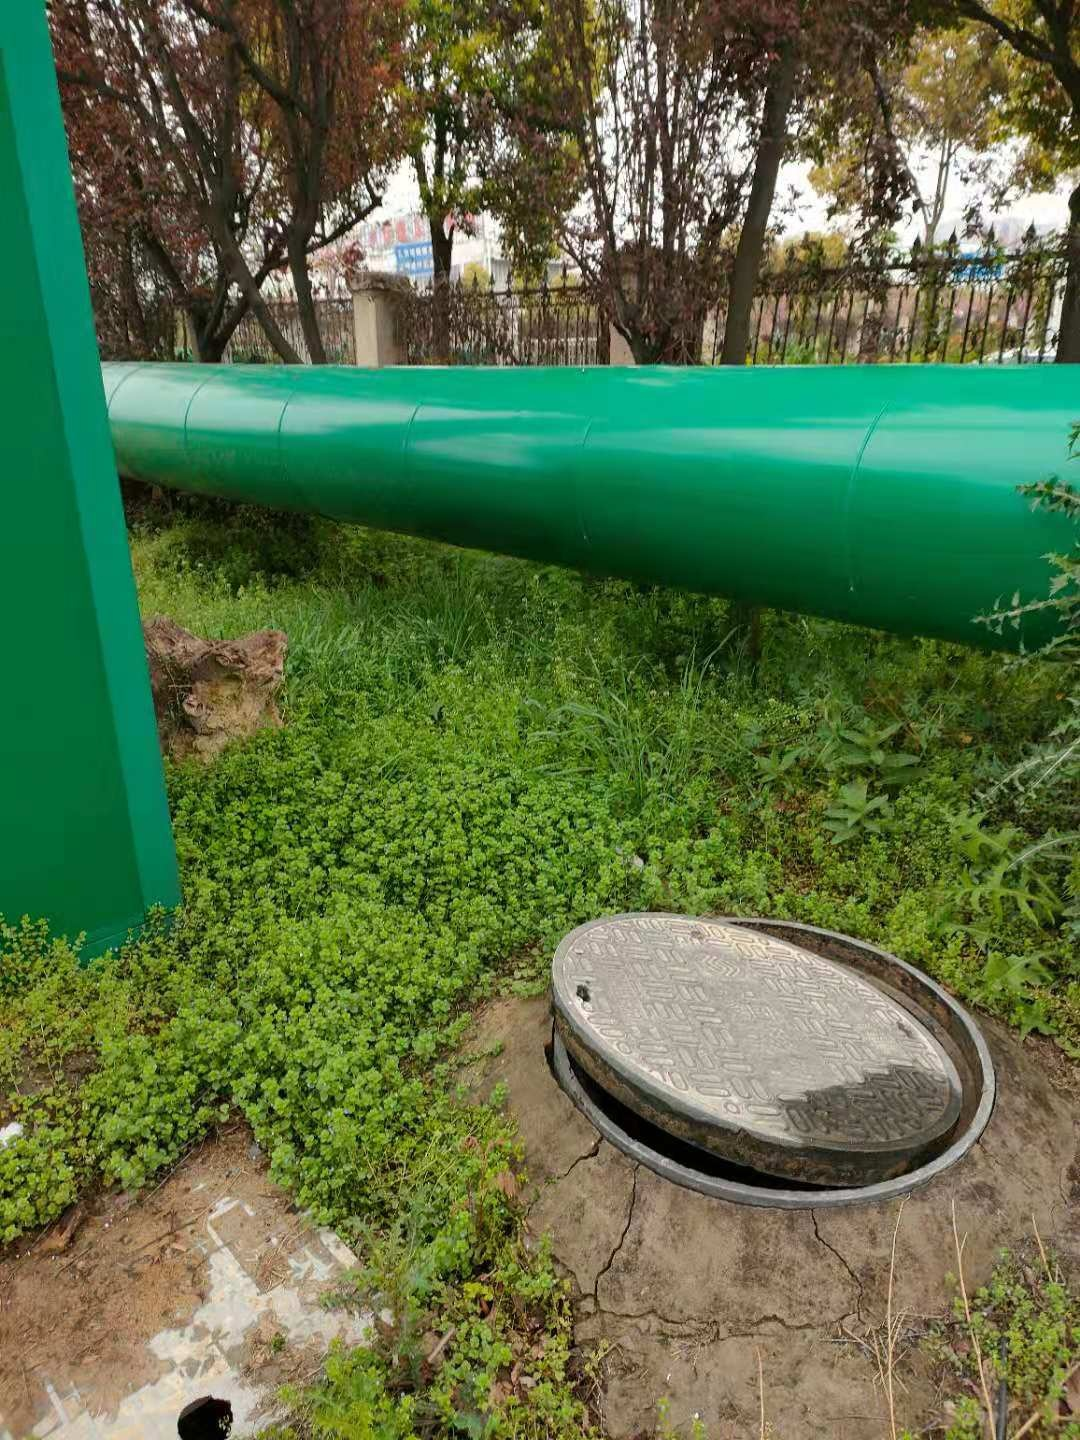uncovered: (547, 908, 997, 1202)
